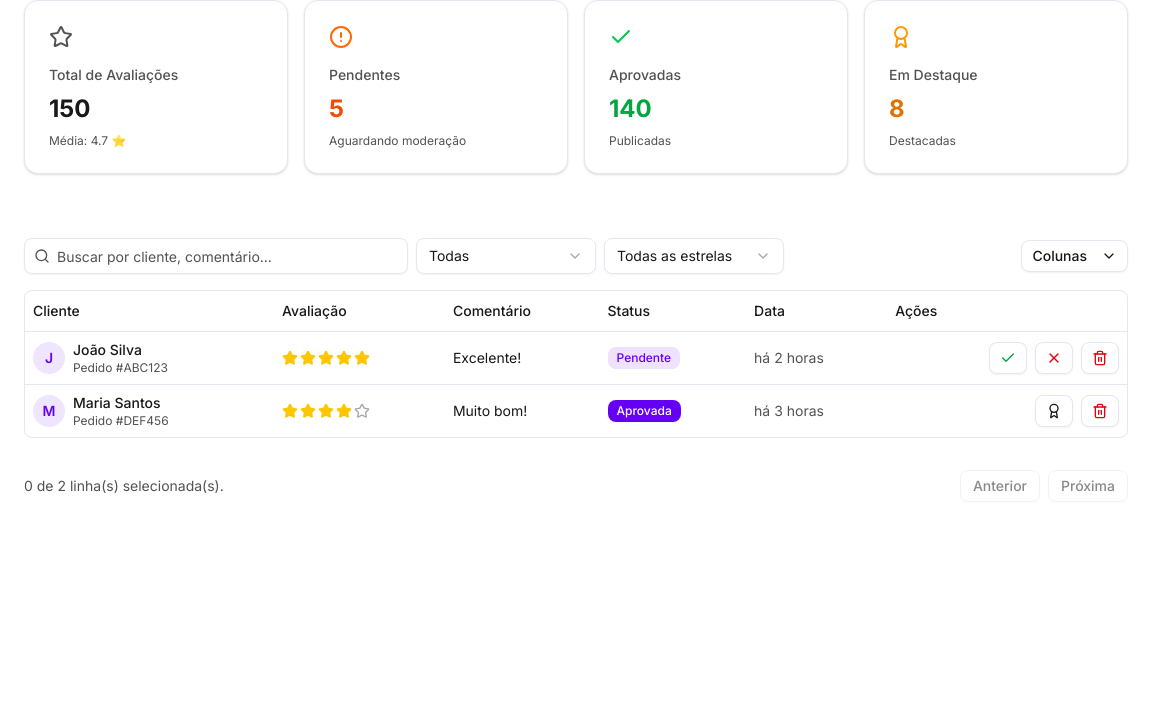
Test: ReviewsPage › deve abrir modal ao rejeitar avaliação
Expected: the text "João Silva" is shown, left=73, top=340, right=142, bottom=358
Click the button titled "Rejeitar" at (1054, 358), box left=1035, top=342, right=1073, bottom=374
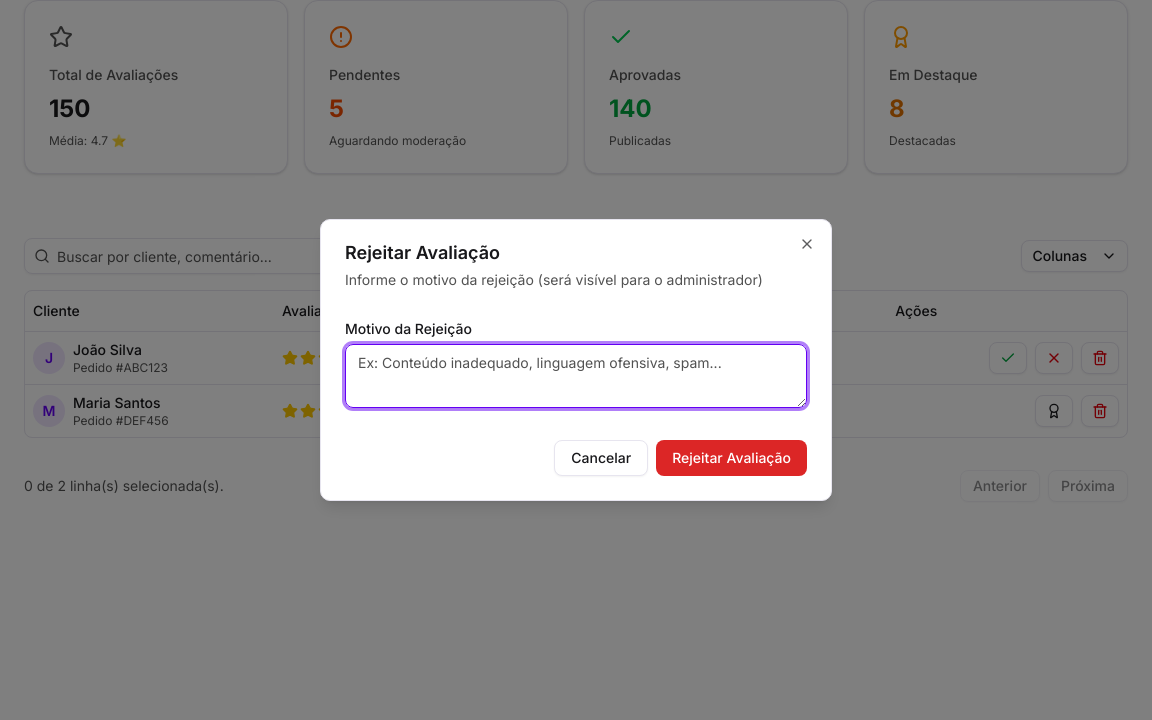
Expected: the heading "Rejeitar Avaliação" is shown, left=345, top=242, right=500, bottom=263
Expected: the text "Informe o motivo da rejeição" is shown, left=345, top=271, right=763, bottom=288
